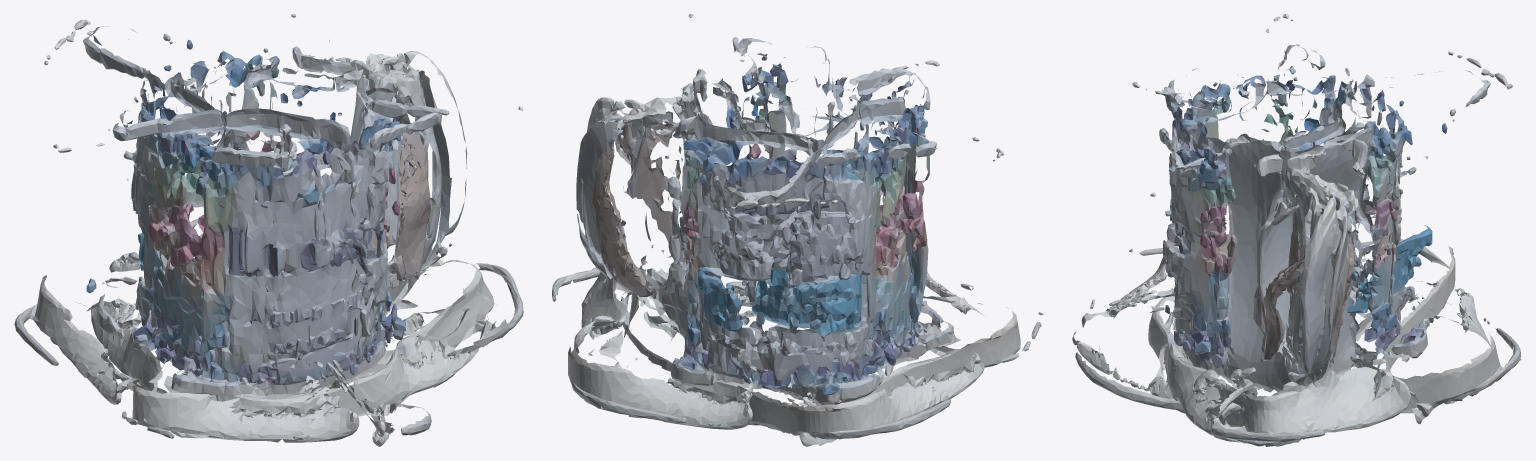
The model's file is finished_model_20260511_164916.glb.
The picture shows the model from 3 angles, left to right: view 1: azimuth 30°, elevation 25°; view 2: azimuth 150°, elevation 25°; view 3: azimuth 270°, elevation 25°; orthographic projection. The views are drawn at different scales.
Visible parts, largest first — view 1: finished_model_20260511_164916.ply; view 2: finished_model_20260511_164916.ply; view 3: finished_model_20260511_164916.ply.
Boxes of the visible parts, box(x1,y1,x2,y2) form: finished_model_20260511_164916.ply: box(14, 14, 523, 446); finished_model_20260511_164916.ply: box(552, 14, 1043, 446); finished_model_20260511_164916.ply: box(1072, 14, 1521, 446).
Bounding box in the file's own units: 0.1781 × 0.1255 × 0.166.
